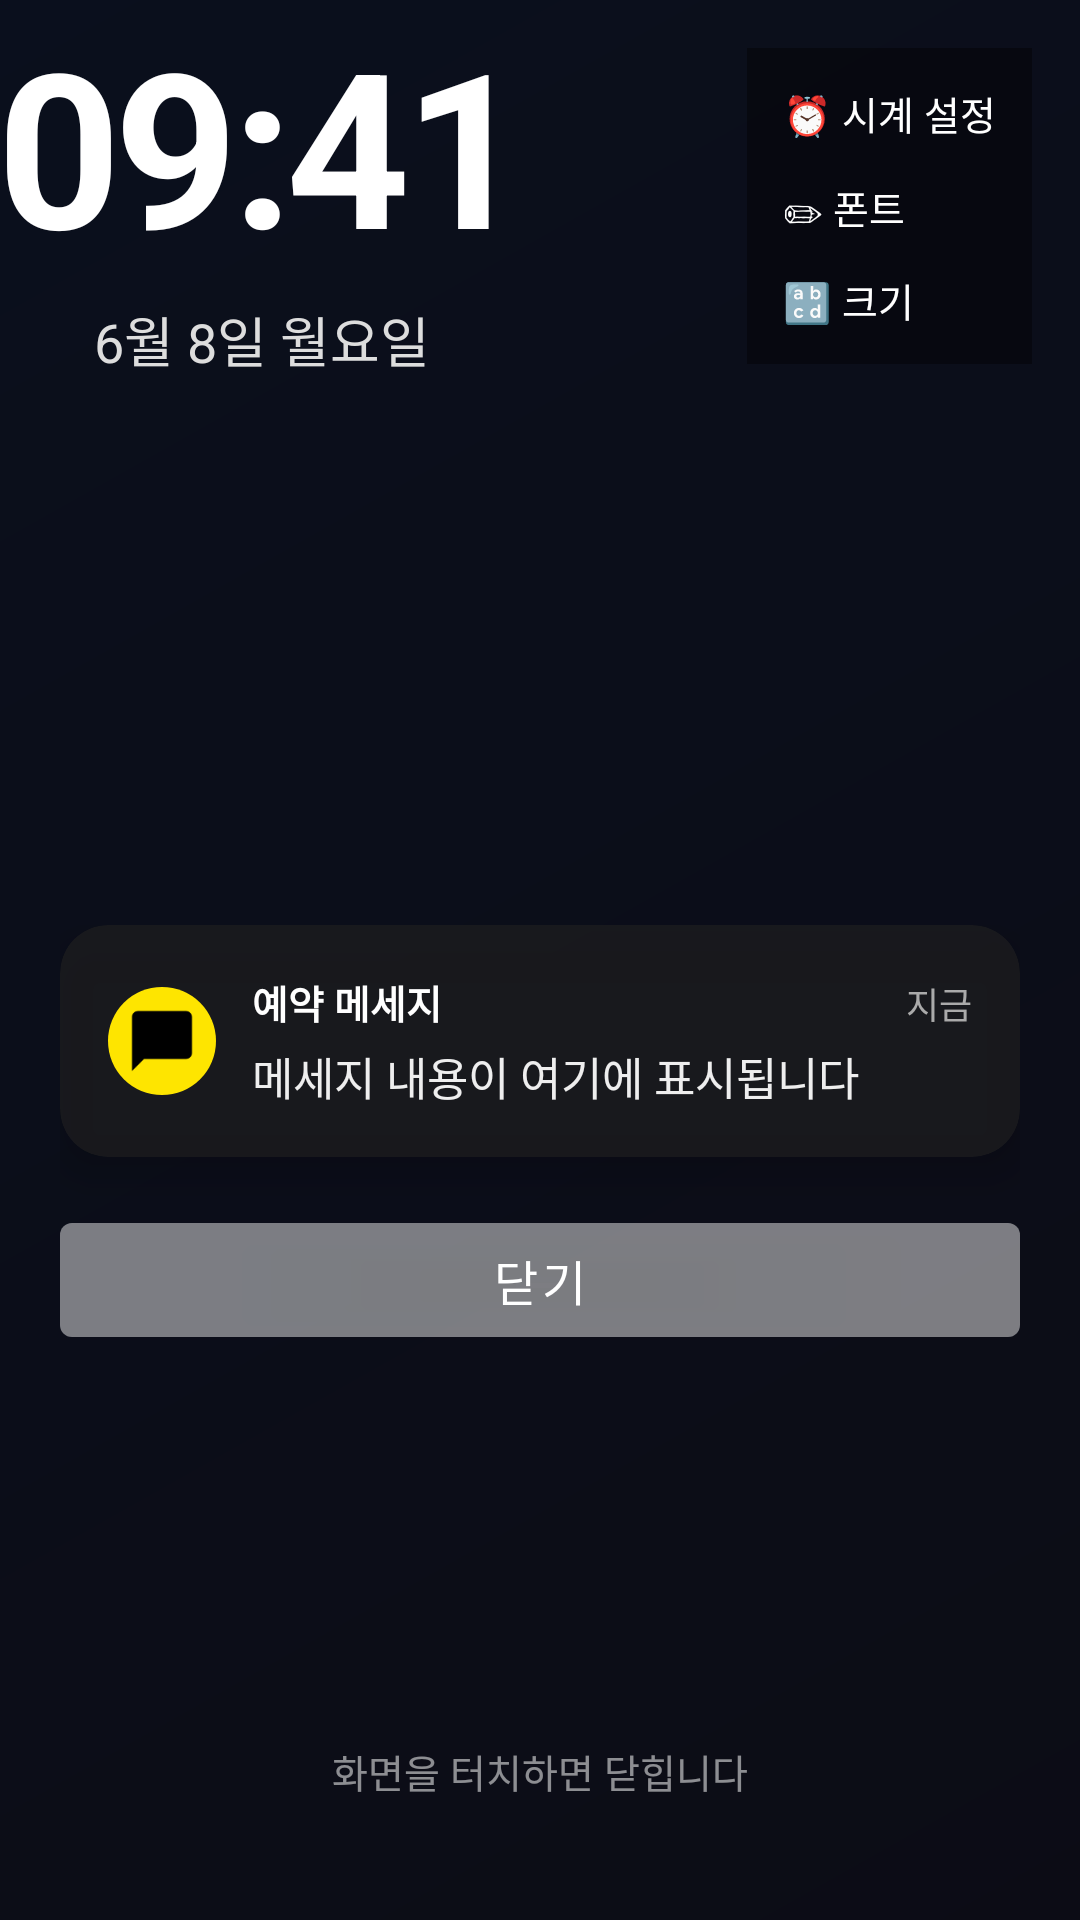

Screen size 1080px x 1920px. Icon name, then its center in pixels as (x,y):
notification: (162,1041)
